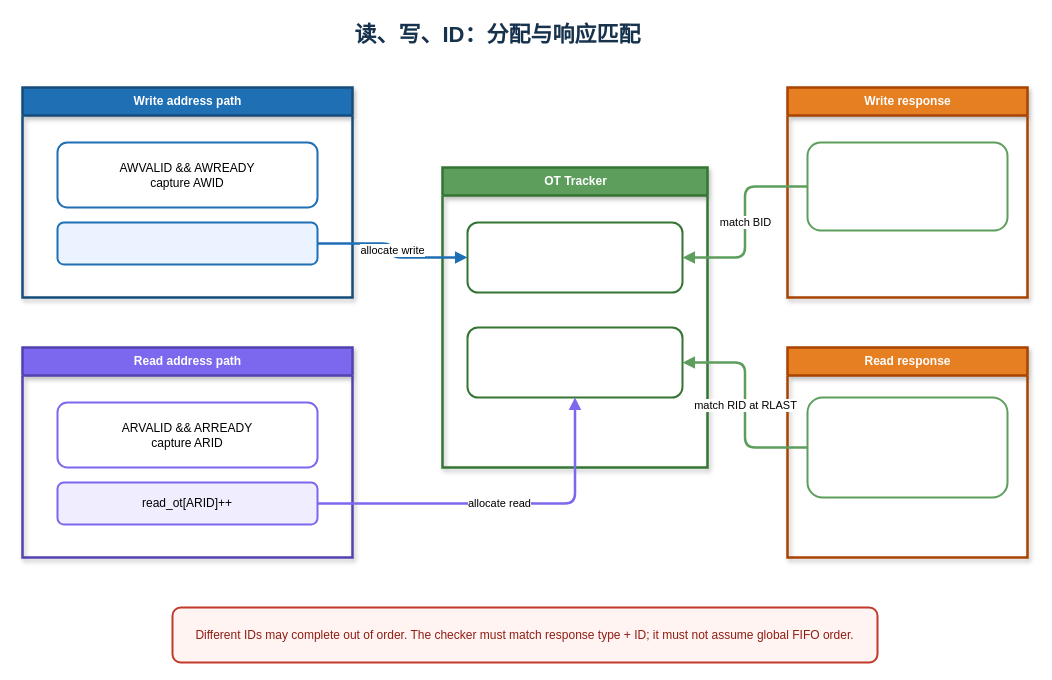
This 1052x680 diagram has some shape labels left out. Here are the shapes that lost their labels. From the top down, the centre of each, then its label:
At (x=907, y=186): "BVALID && BREADY match BID write_ot[BID]--".
At (x=187, y=243): "write_ot[AWID]++".
At (x=574, y=257): "write queue AWID → unmatched write".
At (x=574, y=362): "read queue ARID → unmatched read burst".
At (x=907, y=447): "RVALID && RREADY only RLAST retires match RID, read_ot[RID]--".
